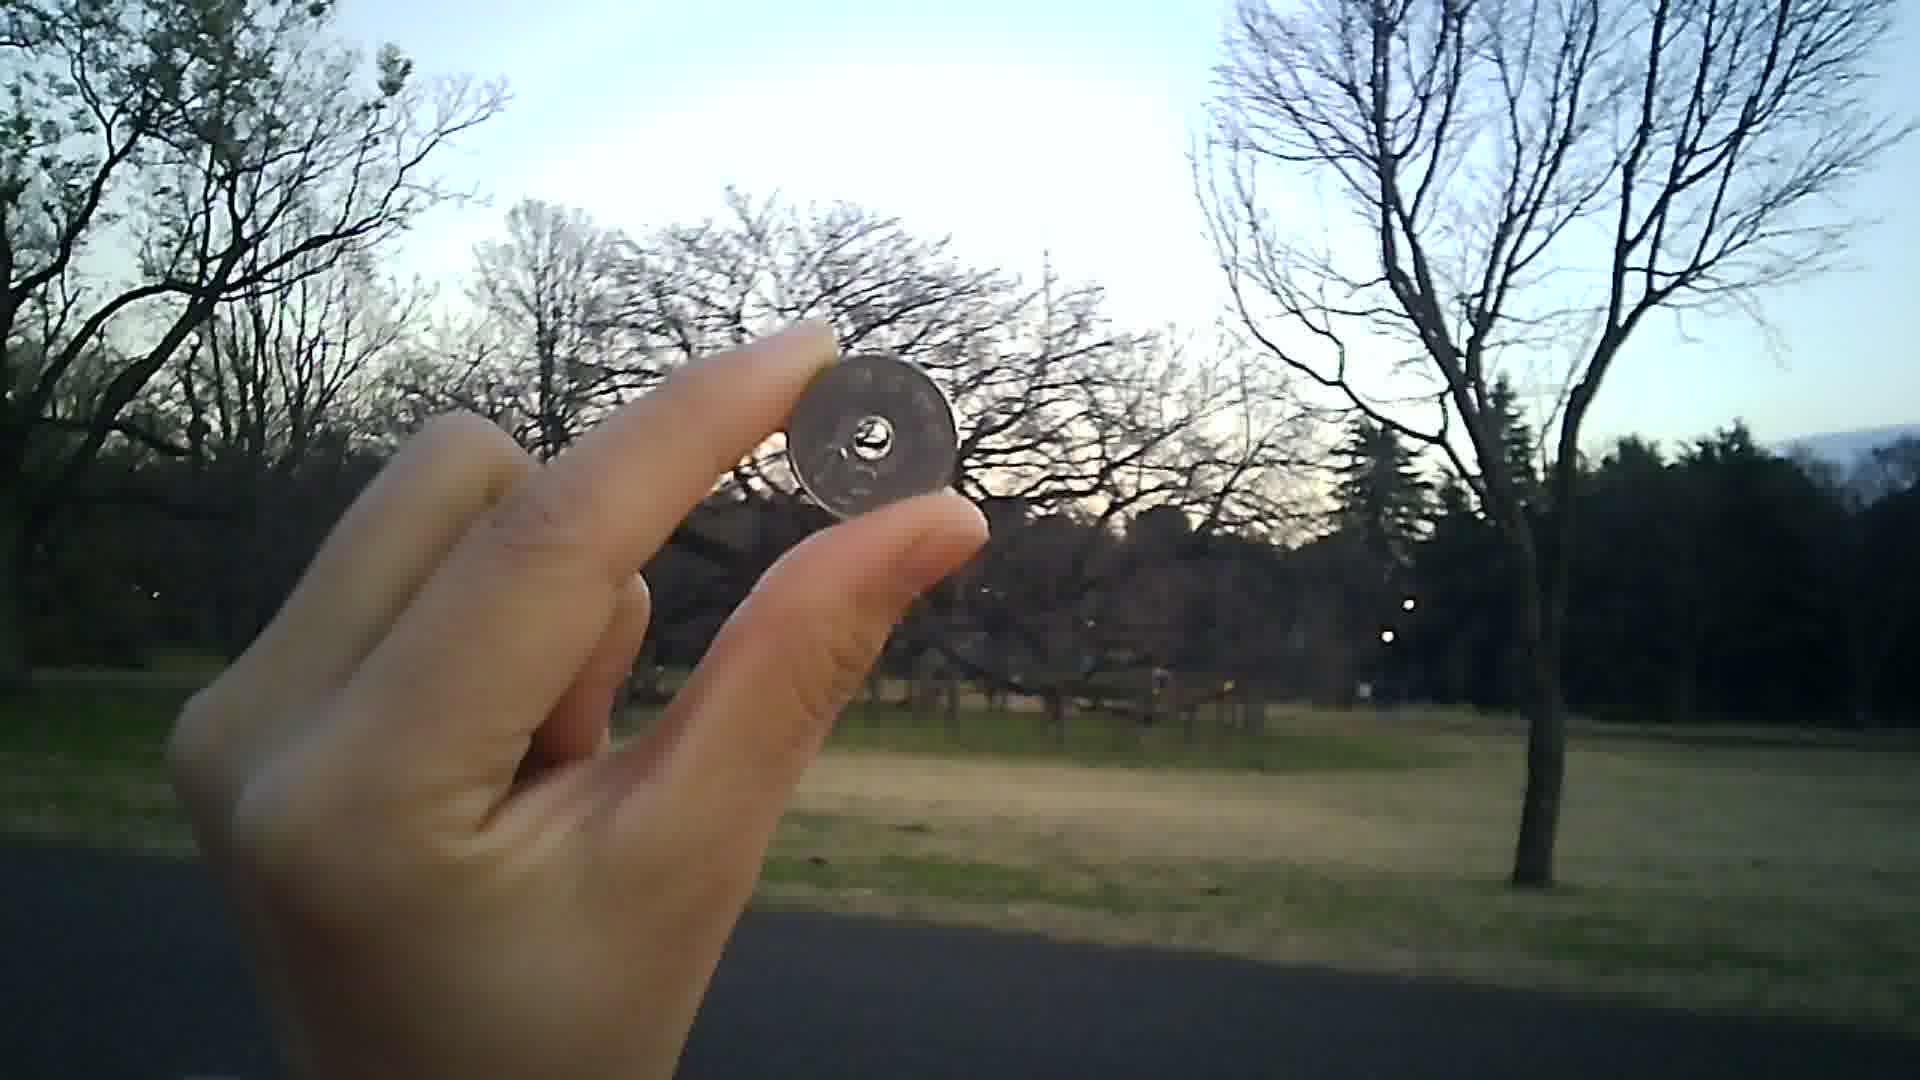50 Yen: (785, 345, 967, 527)
